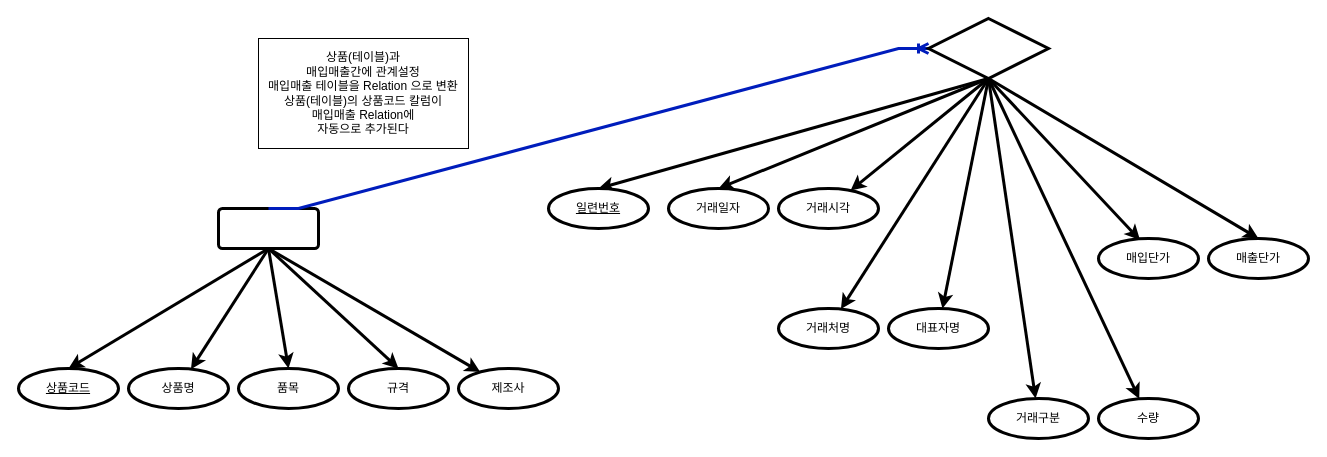
The diagram is 1327 pixels wide and 457 high, and some of its shapes have lost their labels. Each missing label, with the centre of its shape:
"매입매출" goes at point 988,48.
"상품" goes at point 268,228.
